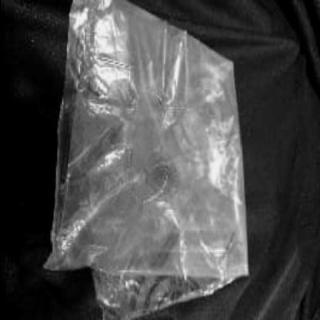objects: (44, 1, 246, 320)
